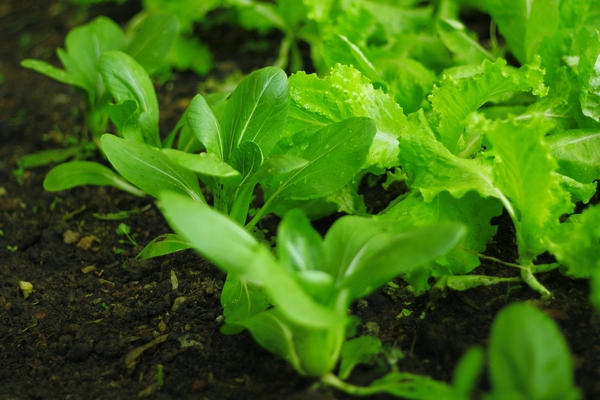healthy_crop: (50, 100, 150, 200)
unhealthy_crop: (200, 150, 300, 250)
